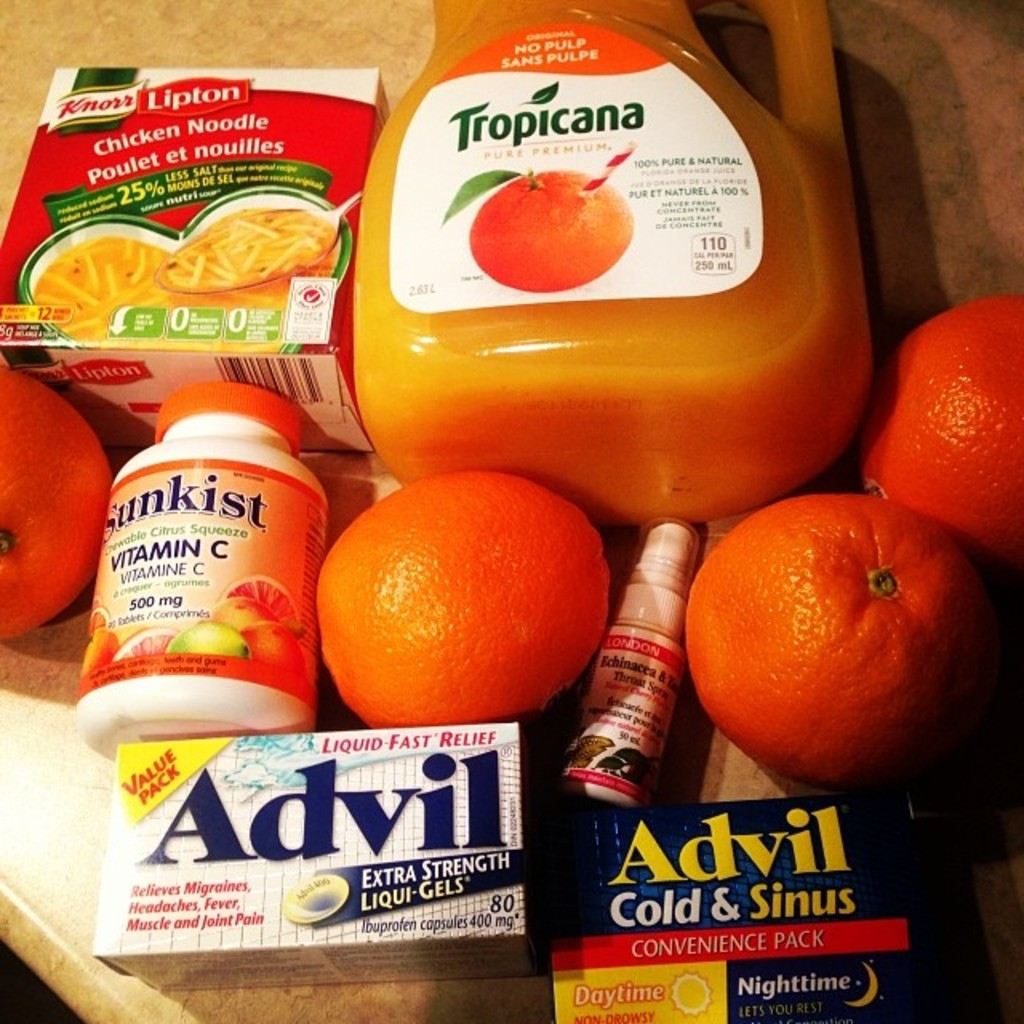Ripe: (686, 494, 1003, 790), (314, 472, 606, 722), (859, 294, 1022, 554), (0, 363, 102, 640), (474, 165, 642, 293)
